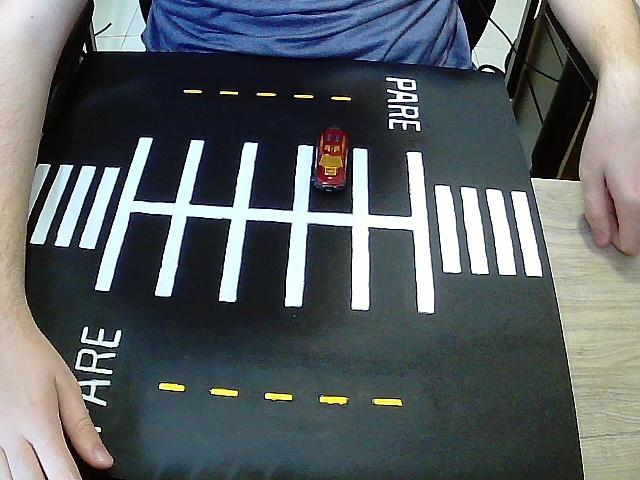Carro: (313, 128, 348, 192)
